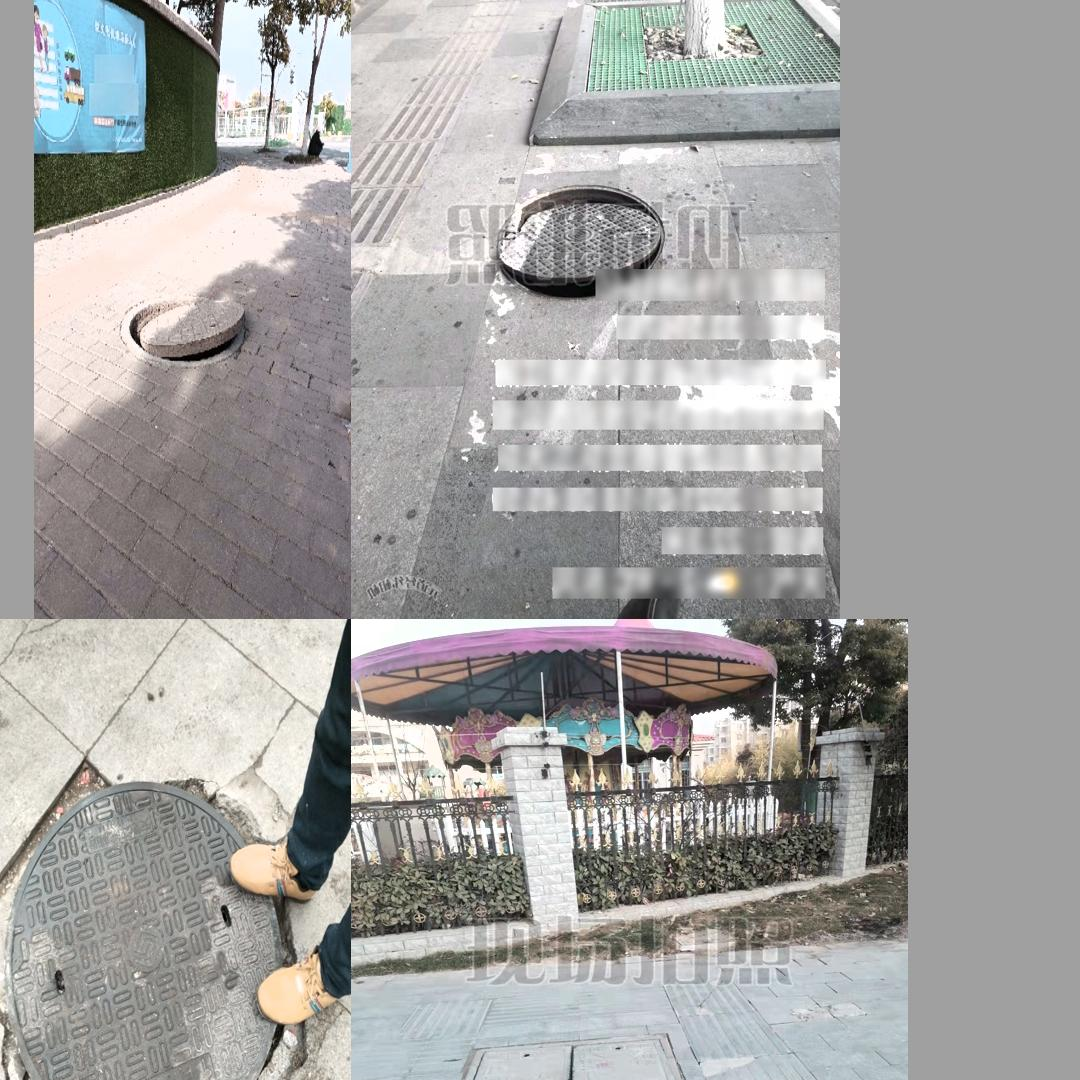uncovered: (6, 781, 284, 1080), (496, 184, 665, 299), (443, 1035, 697, 1080), (119, 298, 246, 367)
